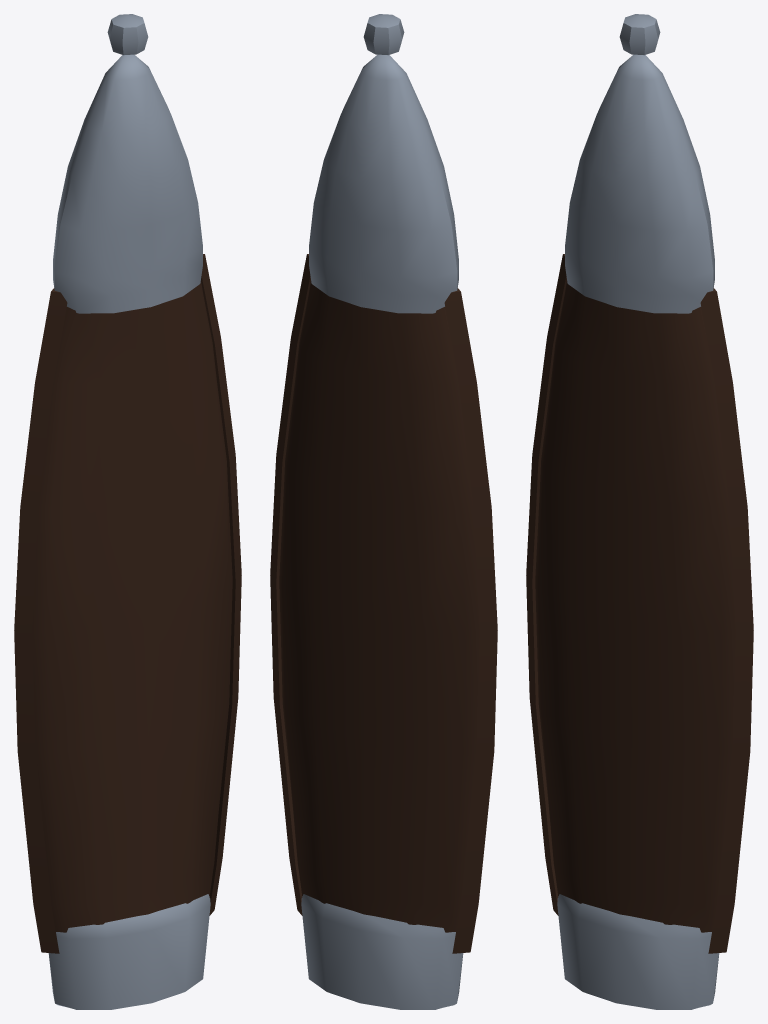
Rendered from Dagger_Sheath.fbx.
3 views of the same model, side by side, from view 1: azimuth 30°, elevation 25°; view 2: azimuth 150°, elevation 25°; view 3: azimuth 330°, elevation 25° (orthographic).
Visible parts, largest first — view 1: Dagger_Sheath_Leather, Dagger_Sheath_Metal; view 2: Dagger_Sheath_Leather, Dagger_Sheath_Metal; view 3: Dagger_Sheath_Leather, Dagger_Sheath_Metal.
Part boxes in pixels (left/top/right/bottom): Dagger_Sheath_Leather: left=14, top=254, right=241, bottom=953; Dagger_Sheath_Metal: left=48, top=14, right=210, bottom=1009; Dagger_Sheath_Leather: left=270, top=254, right=497, bottom=953; Dagger_Sheath_Metal: left=301, top=14, right=463, bottom=1009; Dagger_Sheath_Leather: left=526, top=254, right=753, bottom=953; Dagger_Sheath_Metal: left=557, top=14, right=719, bottom=1009.
Bounding box in the file's own units: 5.24 × 21.37 × 1.9.
